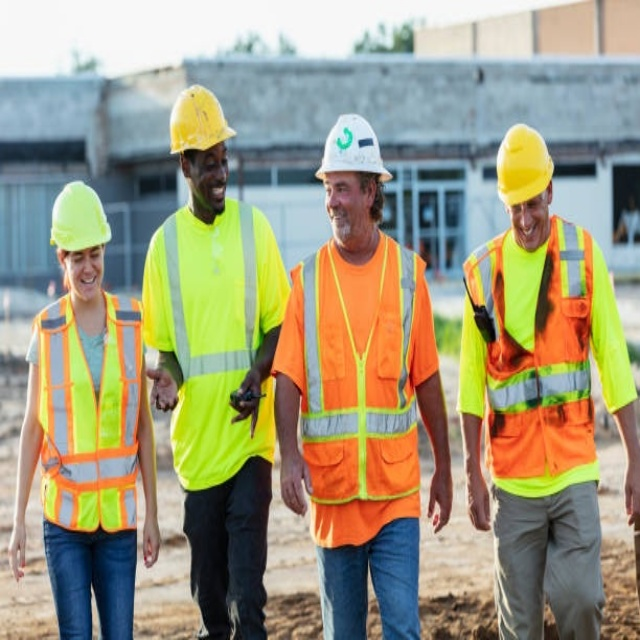Sin_gafas: (192, 146, 229, 174), (68, 243, 106, 267), (509, 191, 548, 213), (322, 176, 353, 201)
Sin_guantes: (279, 456, 314, 518), (462, 467, 493, 533), (230, 387, 267, 437), (425, 471, 455, 530), (146, 364, 178, 413), (5, 521, 29, 582), (139, 516, 164, 571), (622, 455, 639, 518)
Sin_mascara: (204, 180, 228, 210), (516, 220, 543, 245), (75, 271, 99, 295), (328, 209, 350, 235)
